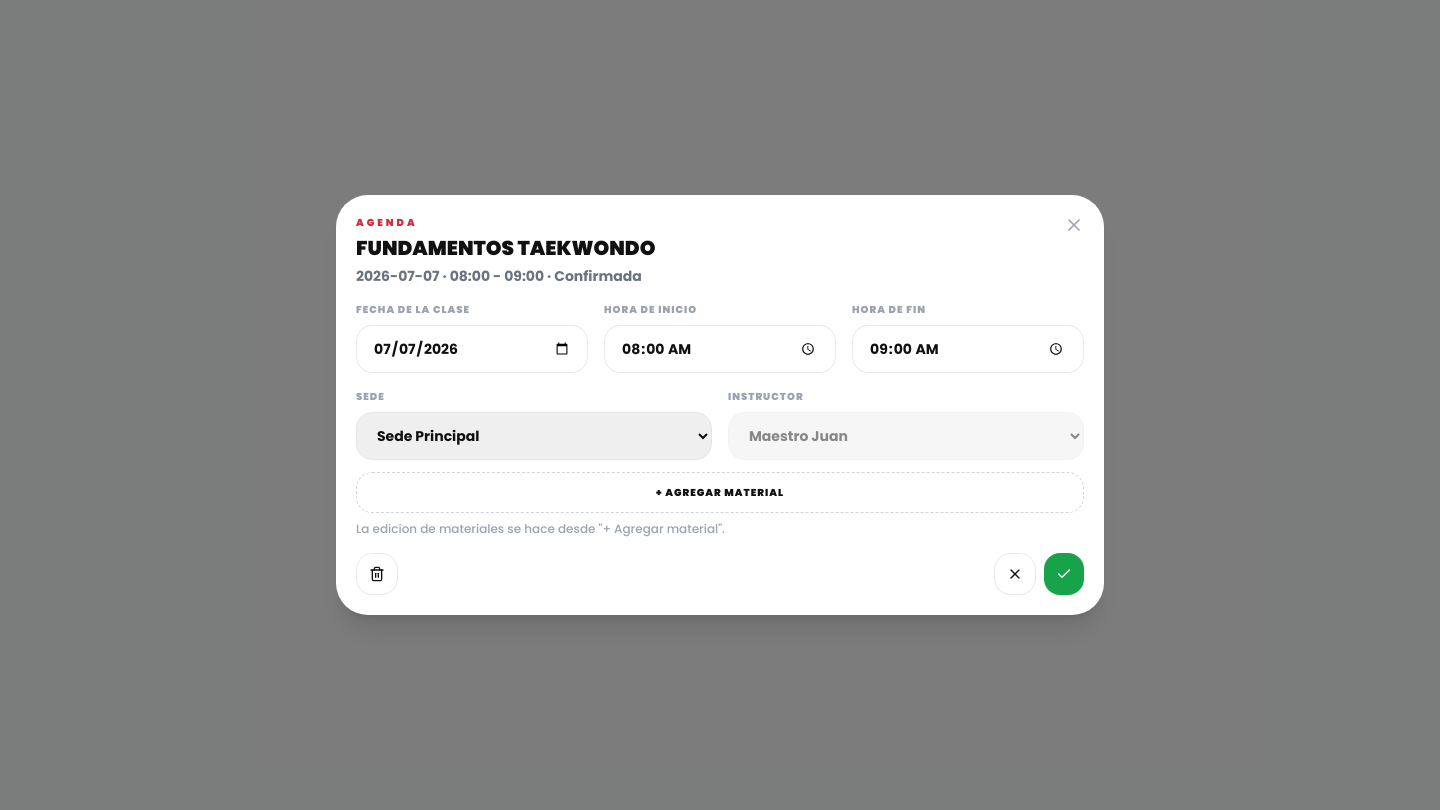
Scenario: ModalEdicionJornada › guardar con cambio de horario valida conflicto antes de guardar y bloquea si hay choque
Replace the text in the time field labelled "Hora de inicio" with "07:00" at point(720, 349), box 604,325 -> 836,373
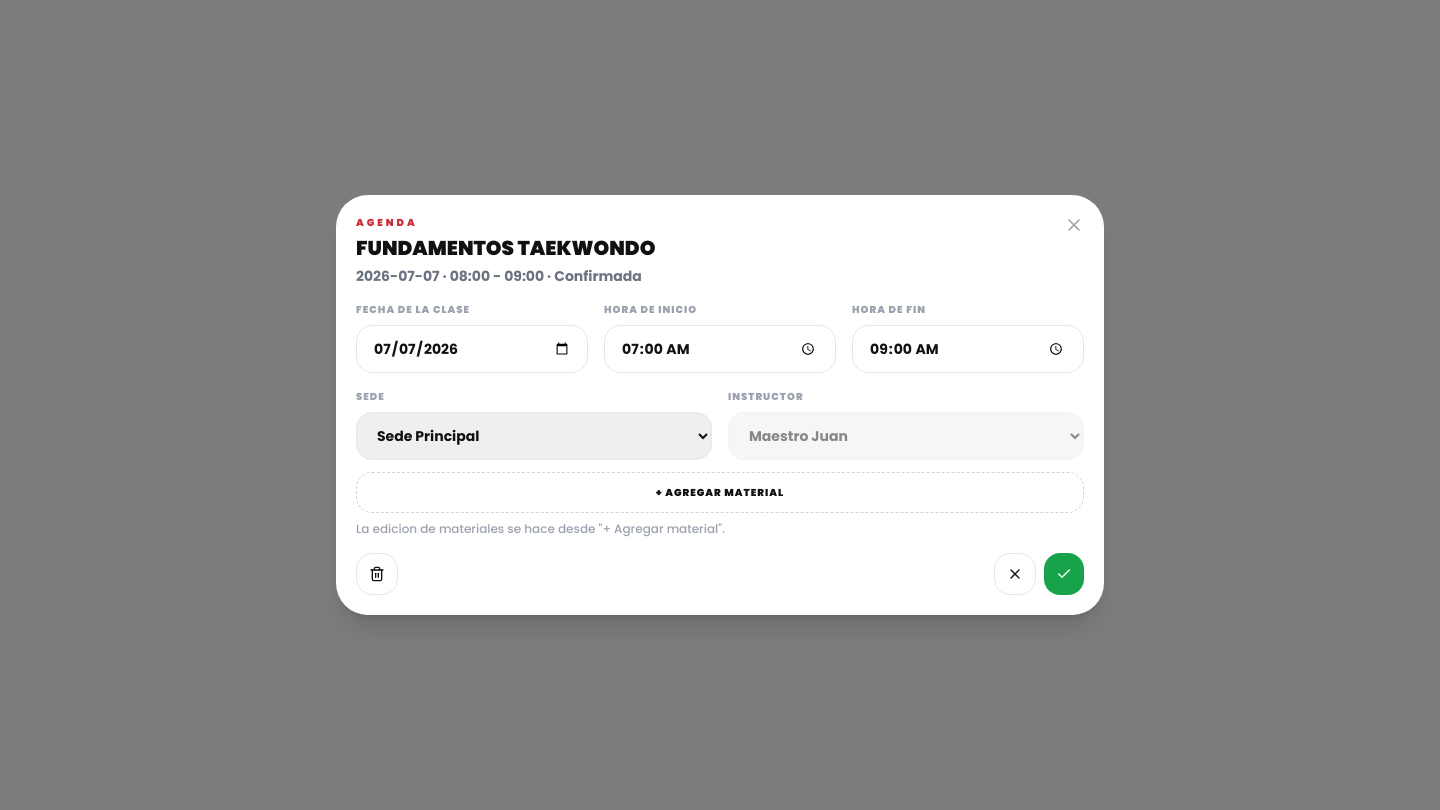
Click the button named "guardar cambios" at point(1064, 574), box 1044,553 -> 1084,595
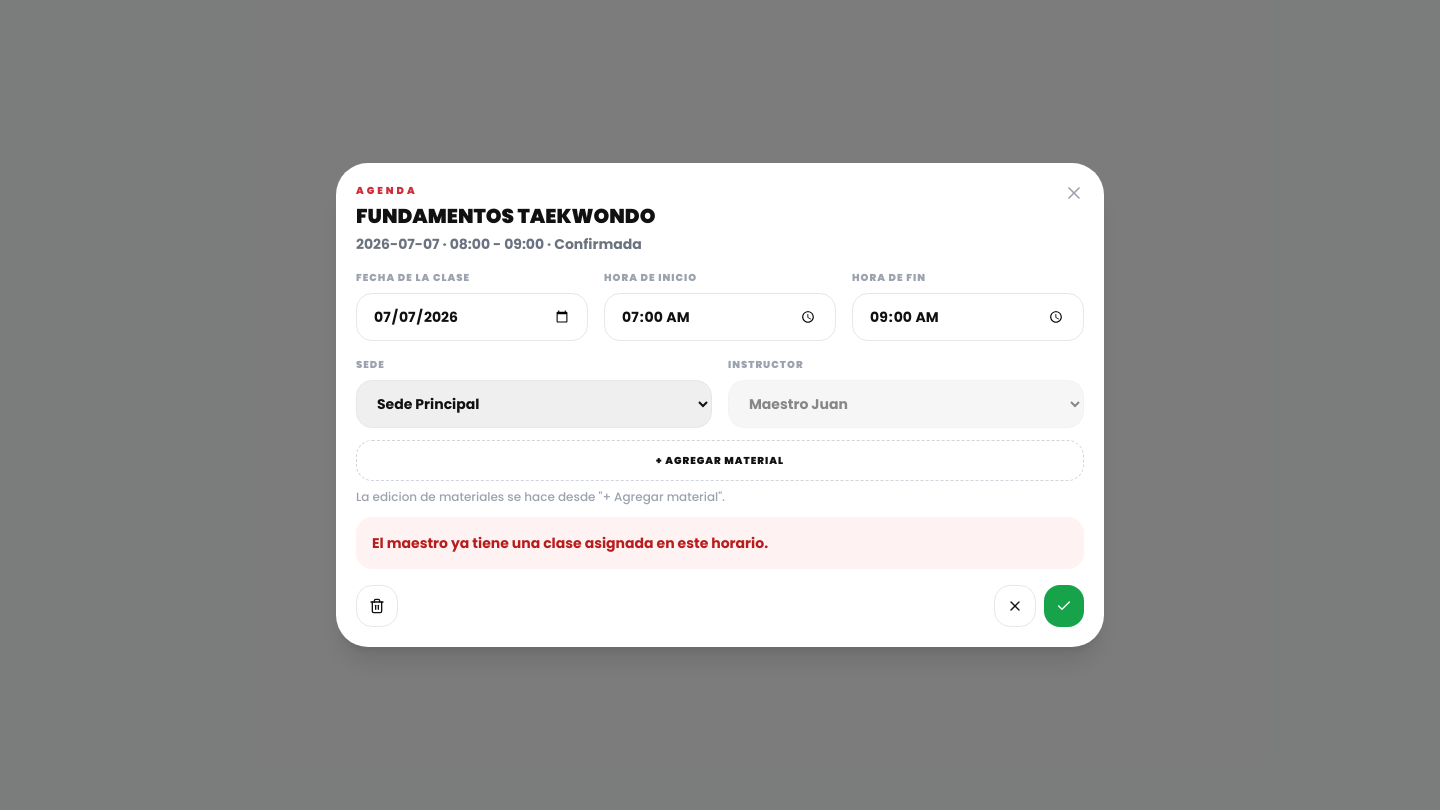
Now the text "El maestro ya tiene una clase asignada en este horario." is shown, box 356,517 -> 1084,569
